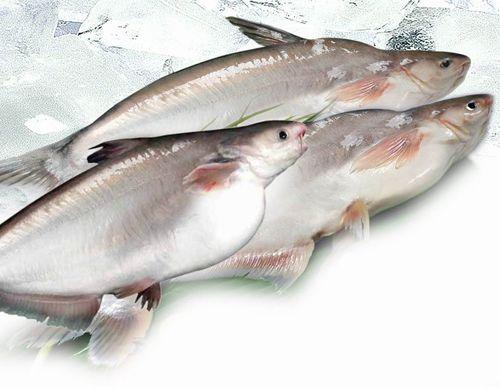Pangasius: (0, 119, 315, 338), (228, 8, 472, 112), (321, 85, 494, 196)
